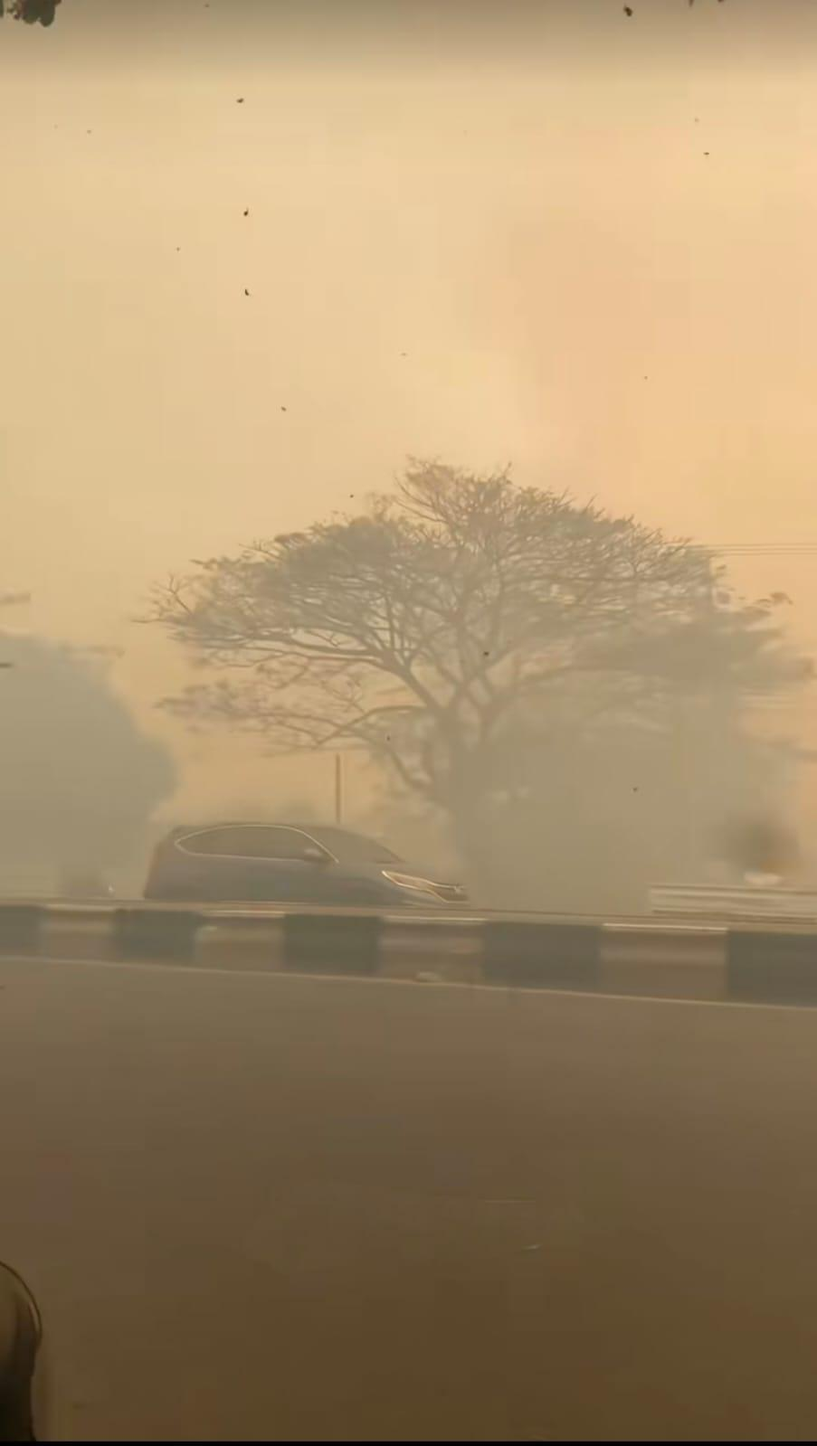Deteksi-Objek-Citra-Berasap: (0, 0, 816, 913)
Kendaraan: (142, 818, 470, 911)
Vegetasi: (139, 454, 802, 890), (0, 628, 177, 898)
